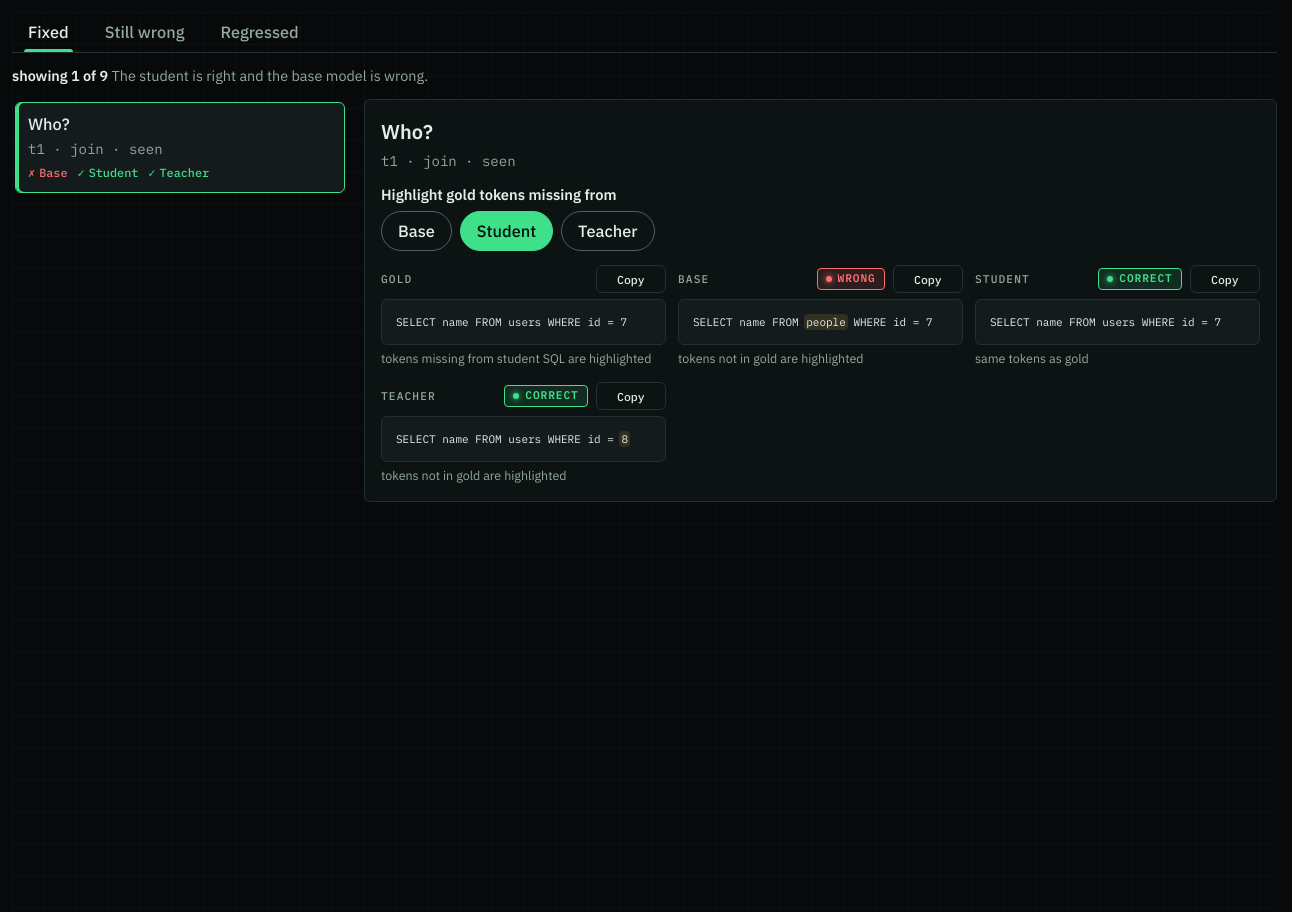
Test case: ExampleBrowser: kind tabs and counts › a kind with nothing returned says so and keeps the count line
Press the mouse on the tab "Regressed" at (260, 32), box [204,12,315,52]
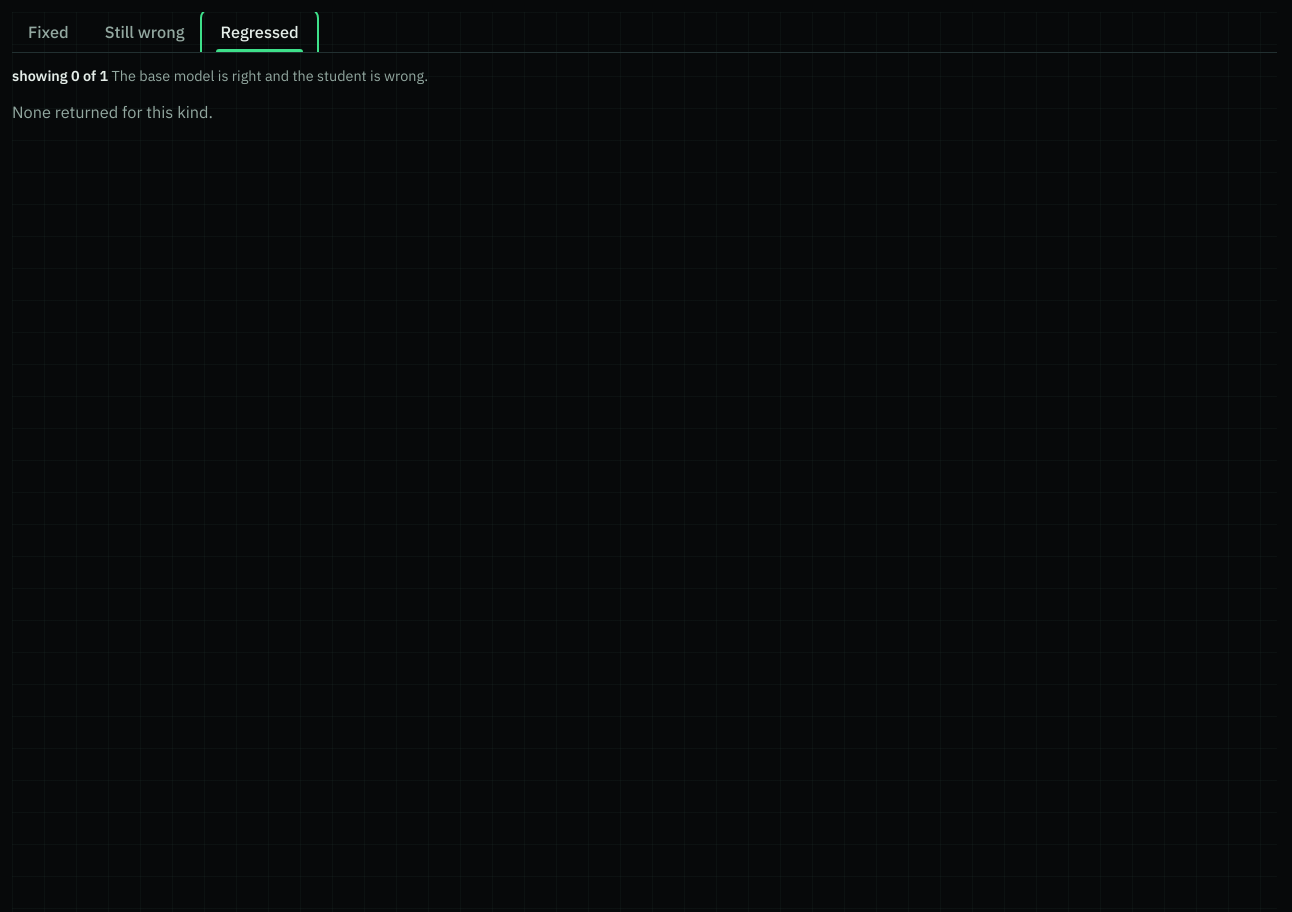
Result: the text "None returned for this kind." is shown at [12,101,213,122]
Result: the text "showing 0 of 1" is shown at [12,66,108,85]
